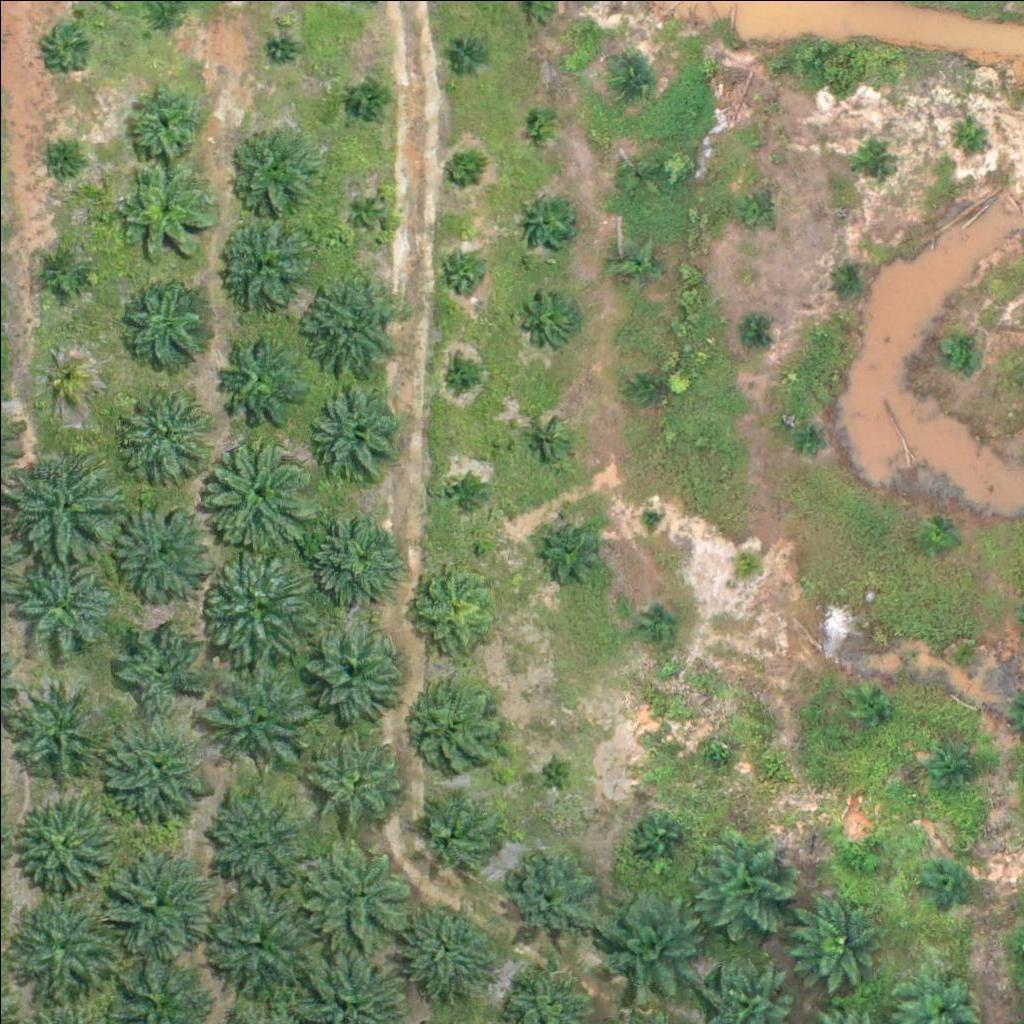Kelapa_Sawit: (196, 879, 321, 1005), (198, 543, 323, 668), (198, 424, 323, 549), (588, 883, 701, 996), (3, 444, 116, 557), (98, 709, 211, 822), (201, 778, 314, 891), (204, 660, 317, 773), (8, 883, 120, 996), (300, 833, 412, 946), (396, 893, 496, 994), (12, 555, 112, 656), (108, 609, 208, 710), (113, 500, 213, 601), (310, 739, 410, 840), (299, 622, 399, 723), (302, 503, 402, 604), (305, 375, 405, 476), (407, 784, 507, 885), (405, 678, 505, 779), (400, 557, 500, 658), (694, 830, 794, 931), (115, 165, 215, 266), (297, 273, 397, 374), (15, 794, 115, 894), (6, 686, 106, 786), (103, 850, 203, 950), (791, 891, 891, 991), (114, 383, 202, 472), (120, 77, 208, 165), (229, 128, 317, 216), (217, 220, 305, 308), (210, 333, 298, 421), (505, 851, 592, 940), (121, 288, 208, 376), (542, 514, 605, 577), (516, 187, 578, 250), (636, 812, 686, 863), (525, 296, 575, 347), (609, 239, 659, 290), (37, 248, 87, 298), (43, 19, 93, 69), (344, 77, 394, 127), (36, 348, 86, 398), (341, 186, 391, 236), (436, 250, 486, 300), (930, 739, 980, 789), (917, 862, 967, 912), (631, 367, 669, 405), (839, 839, 877, 877), (848, 688, 886, 726), (696, 732, 734, 770), (534, 751, 572, 789), (728, 542, 766, 580), (437, 473, 475, 511), (939, 330, 976, 368), (521, 101, 559, 138), (444, 356, 481, 394), (526, 423, 563, 461), (731, 313, 769, 350), (856, 137, 893, 175), (614, 155, 652, 192), (442, 152, 479, 190), (645, 603, 682, 641), (948, 642, 985, 680), (952, 113, 989, 151), (446, 29, 483, 66), (614, 57, 651, 94), (834, 265, 871, 302), (737, 187, 774, 224), (917, 520, 954, 557), (786, 422, 823, 459), (47, 145, 72, 170), (638, 506, 663, 531), (270, 35, 294, 60)
